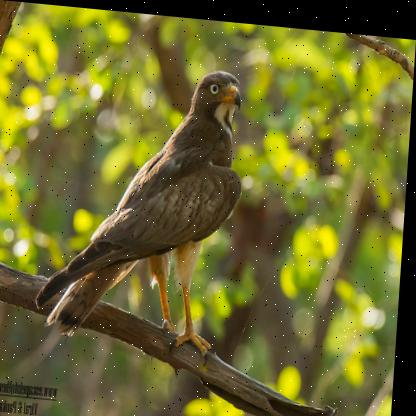Burung: (32, 51, 254, 367)
